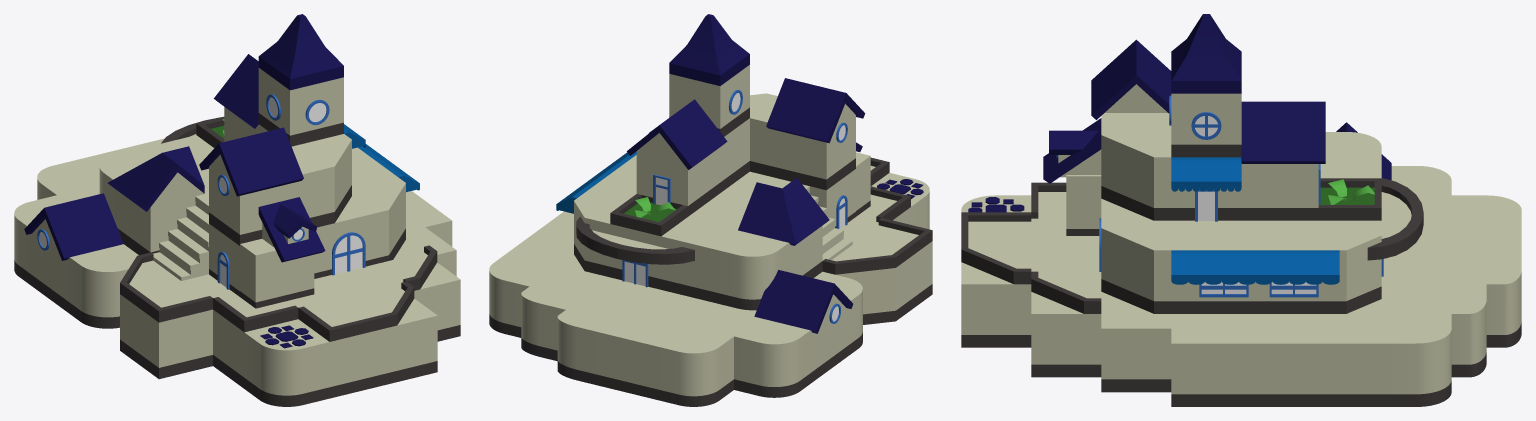
Rendered from city1.glb.
3 views of the same model, side by side, from view 1: azimuth 30°, elevation 25°; view 2: azimuth 150°, elevation 25°; view 3: azimuth 270°, elevation 25° (orthographic). The views are drawn at different scales.
Parts seen in each view (by area): view 1: mergedBlocks(Clone); view 2: mergedBlocks(Clone); view 3: mergedBlocks(Clone).
Part boxes in pixels (bbox=[...]): mergedBlocks(Clone): bbox=[14, 14, 460, 406]; mergedBlocks(Clone): bbox=[489, 14, 932, 406]; mergedBlocks(Clone): bbox=[961, 14, 1521, 406].
Size of the model in its own units: 6.13 by 5 by 8.
